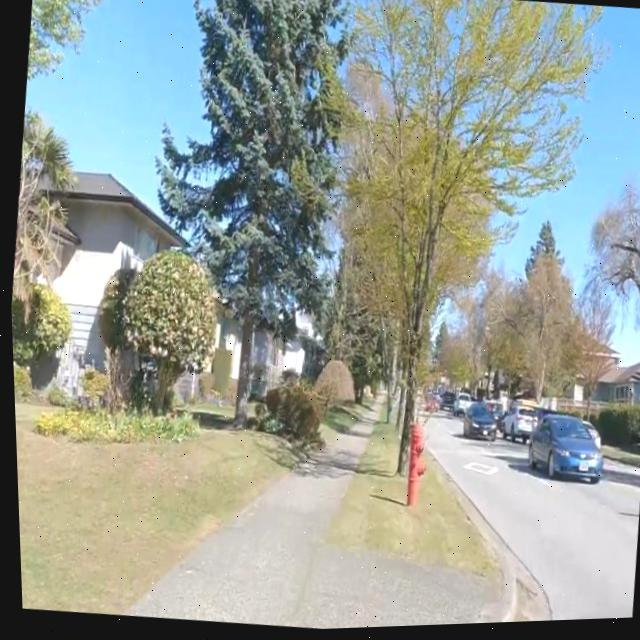Automobile: (525, 416, 597, 487), (499, 409, 532, 444), (460, 406, 491, 443), (449, 395, 467, 420)
Road: (422, 421, 637, 625)
Sidewalk: (121, 436, 508, 631)
